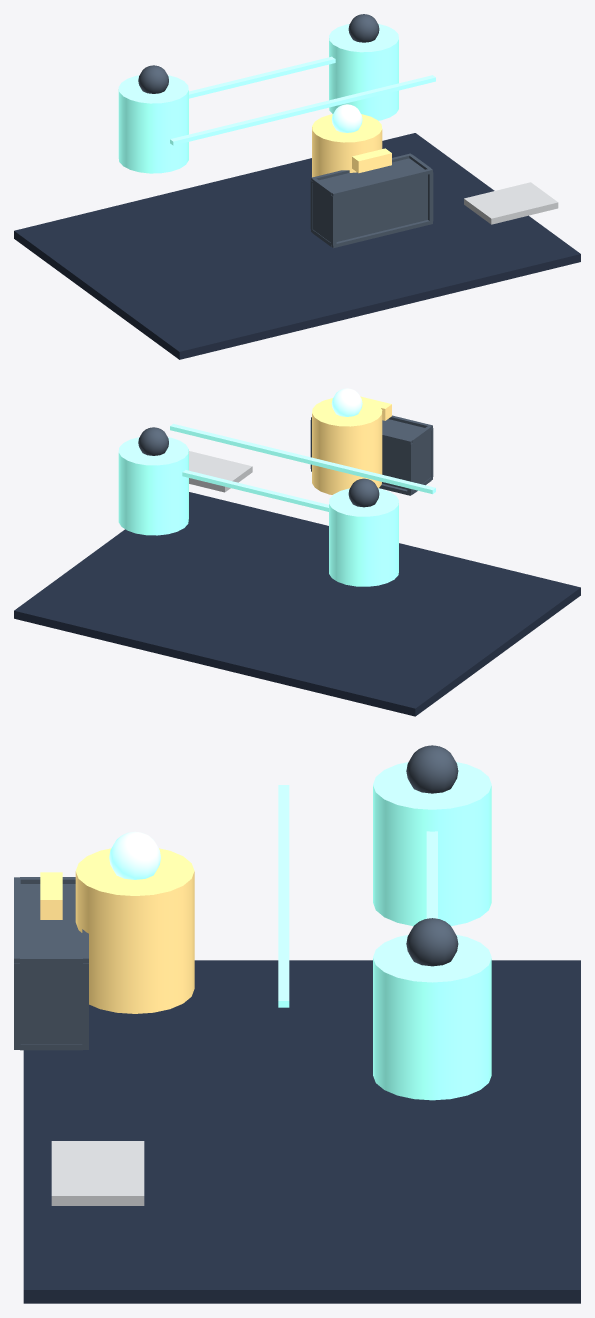
Rendered from cka-etcd-quorum.glb.
The picture shows the model from 3 angles, top to bottom: view 1: azimuth 30°, elevation 25°; view 2: azimuth 150°, elevation 25°; view 3: azimuth 270°, elevation 25°; orthographic projection. The views are drawn at different scales.
Parts seen in each view (by area): view 1: exam-floor, apiserver-front, etcd-member-1, etcd-member-2, etcd-member-0, exam-prompt, raft-link-0-1, raft-link-1-2, raft-link-2-0, etcd-heart-2, cka-badge, etcd-heart-0 (+1 smaller); view 2: exam-floor, etcd-member-2, etcd-member-1, etcd-member-0, apiserver-front, exam-prompt, raft-link-2-0, raft-link-1-2, raft-link-0-1, etcd-heart-2, etcd-heart-0, etcd-heart-1; view 3: exam-floor, etcd-member-2, etcd-member-0, etcd-member-1, apiserver-front, exam-prompt, etcd-heart-1, etcd-heart-2, etcd-heart-0, raft-link-2-0, raft-link-0-1, cka-badge (+1 smaller).
Boxes of the visible parts, x1,y1,x2,y2 form: exam-floor: (14,133,580,359); apiserver-front: (310,153,433,248); etcd-member-1: (118,75,188,173); etcd-member-2: (329,23,398,120); etcd-member-0: (312,114,382,177); exam-prompt: (464,182,558,224); raft-link-0-1: (170,101,330,145); raft-link-1-2: (189,56,335,98); raft-link-2-0: (276,75,435,114); etcd-heart-2: (348,14,379,42); cka-badge: (352,148,391,173); etcd-heart-0: (331,104,362,132); exam-floor: (14,492,580,716); etcd-member-2: (118,437,188,535); etcd-member-1: (329,488,398,586); etcd-member-0: (312,398,382,494); apiserver-front: (310,415,433,495); exam-prompt: (189,451,252,492); raft-link-2-0: (170,423,330,468); raft-link-1-2: (182,470,328,511); raft-link-0-1: (276,449,435,494); etcd-heart-2: (138,427,168,455); etcd-heart-0: (331,388,362,416); etcd-heart-1: (348,478,379,507); exam-floor: (23,960,580,1303); etcd-member-2: (373,934,491,1100); etcd-member-0: (75,848,194,1013); etcd-member-1: (373,762,491,926); apiserver-front: (14,877,88,1050); exam-prompt: (51,1141,144,1205); etcd-heart-1: (406,745,458,793); etcd-heart-2: (406,918,458,966); etcd-heart-0: (109,831,160,879); raft-link-2-0: (278,871,289,1007); raft-link-0-1: (278,785,289,913); cka-badge: (40,872,62,919).
Bounding box in the file's own units: 4.2 × 1.81 × 3.05.
